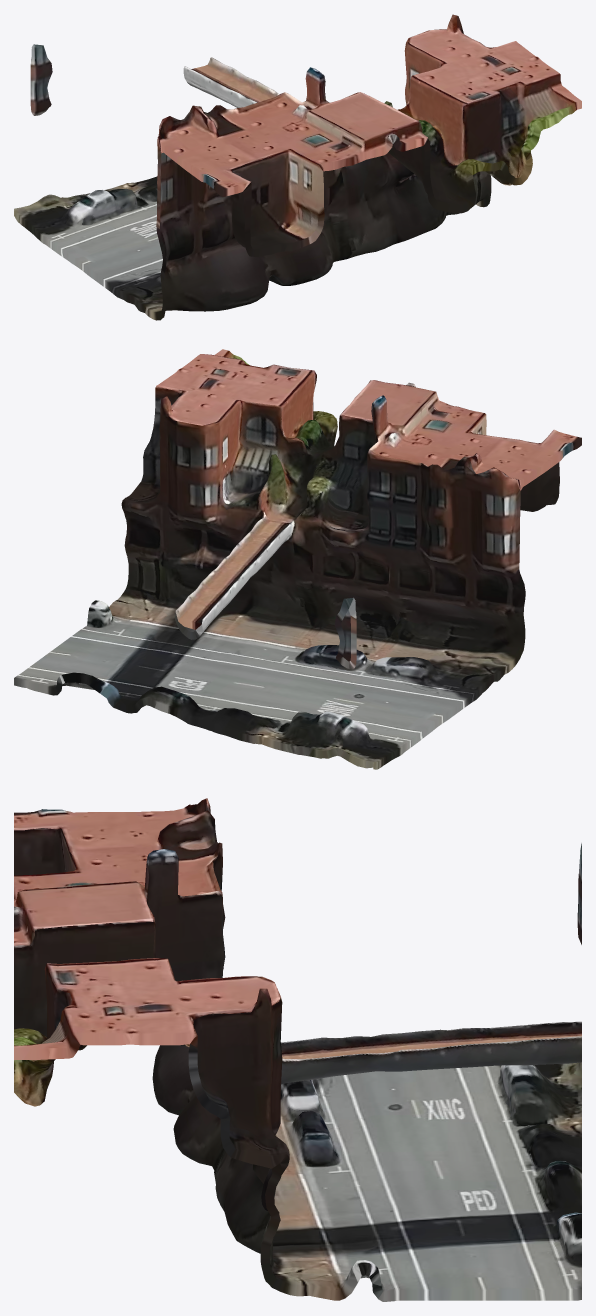
File: z20-167776-405210-h0-yup-uvflip-v3-world.glb
The picture shows the model from 3 angles, top to bottom: view 1: azimuth 30°, elevation 25°; view 2: azimuth 150°, elevation 25°; view 3: azimuth 270°, elevation 25°; orthographic projection. The views are drawn at different scales.
Bounding box in the file's own units: 30.16 × 18.4 × 30.32.
1 material, 1 textured.
